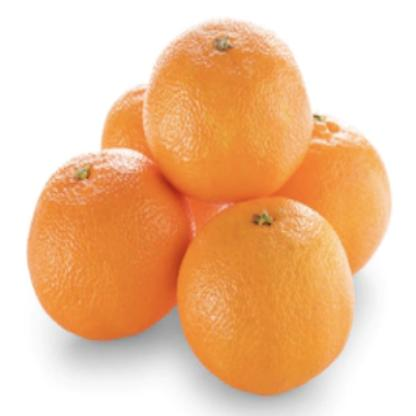fresh: (25, 17, 392, 401)
